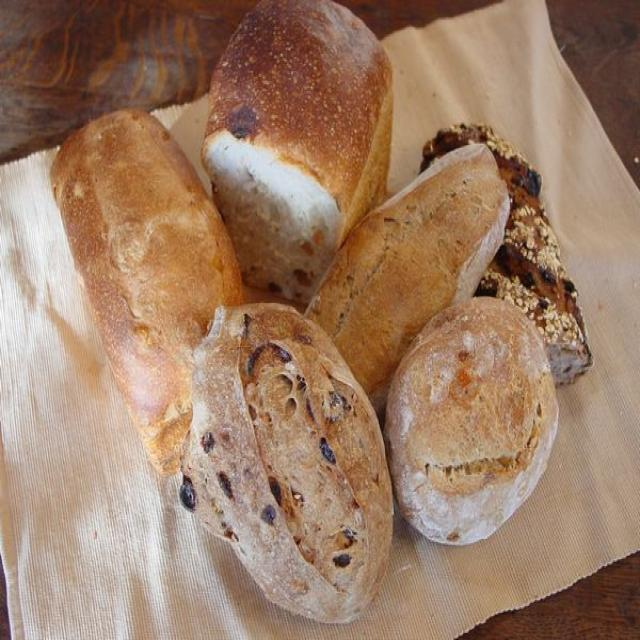面包点心: (71, 0, 574, 636)
